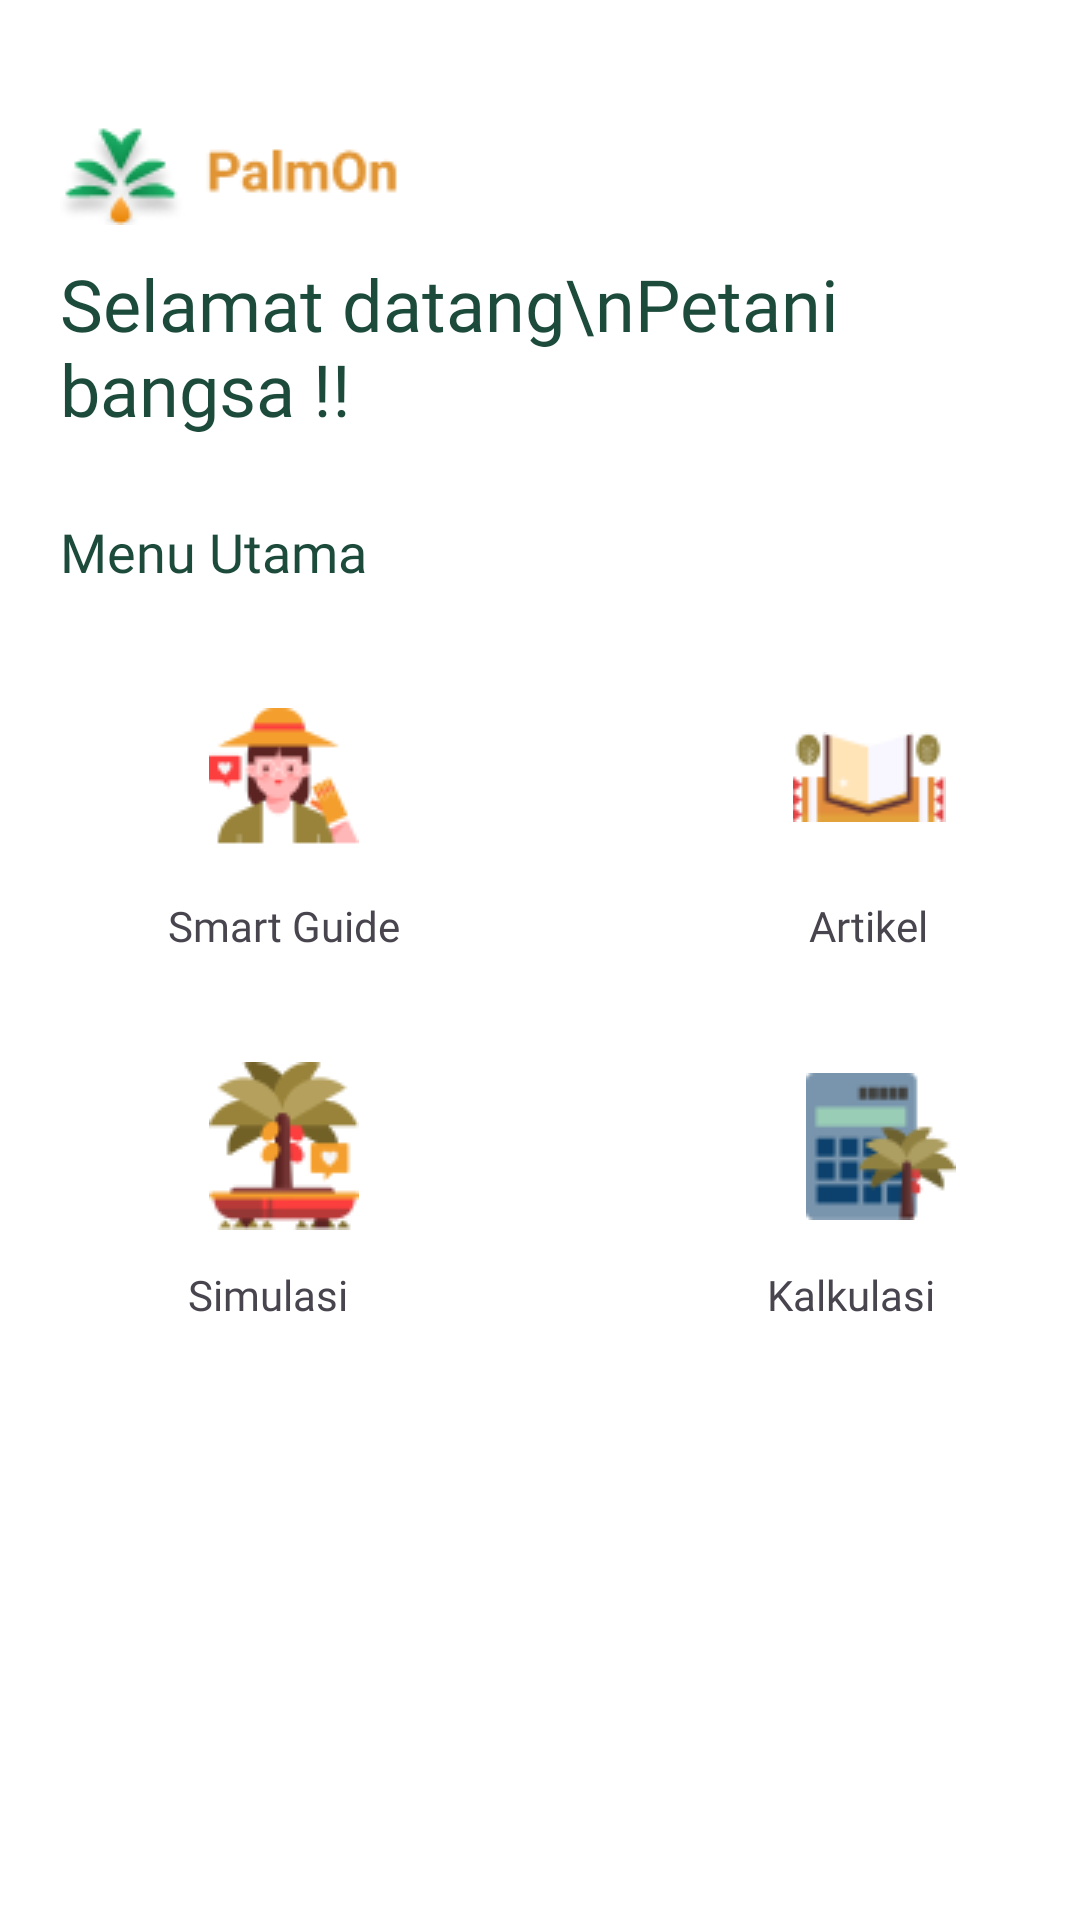

Named icons in this screenshot (1080px x 1920px) and their bounding boxes, (x1, y1, x2, y2):
guide home: (209, 708, 359, 844)
